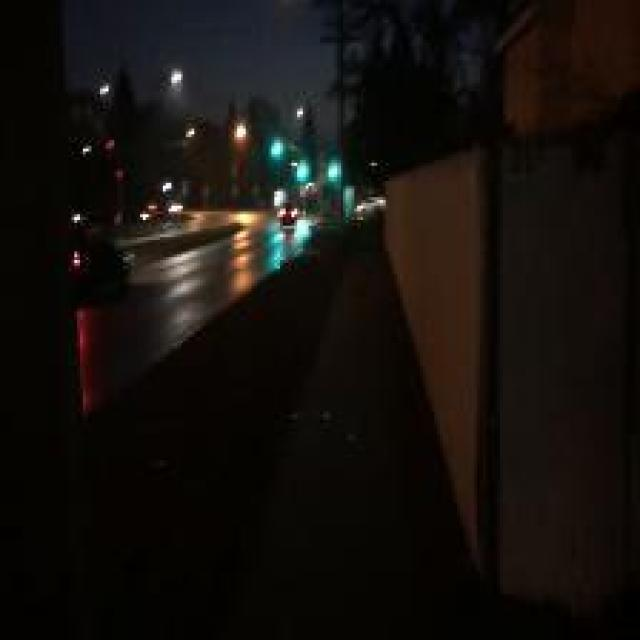other: (57, 232, 100, 412), (220, 180, 262, 281)
